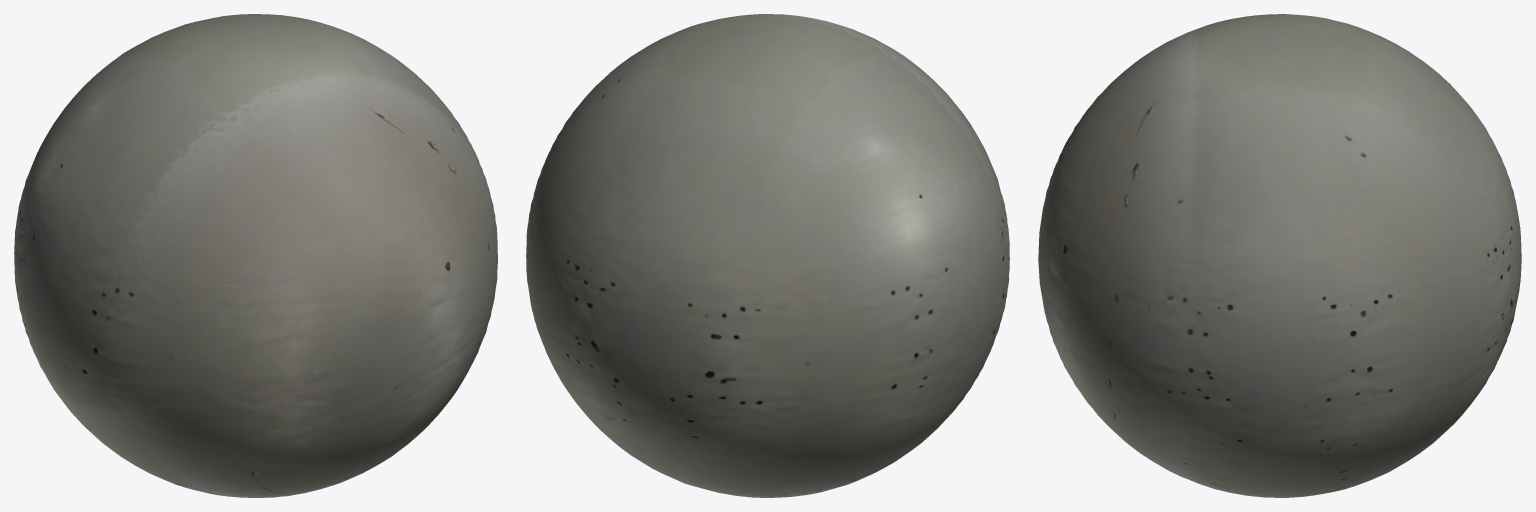
The model's file is cannonball_mediuam_quality.glb.
The picture shows the model from 3 angles, left to right: view 1: azimuth 30°, elevation 25°; view 2: azimuth 150°, elevation 25°; view 3: azimuth 270°, elevation 25°; orthographic projection.
Parts seen in each view (by area): view 1: Mesh1.0; view 2: Mesh1.0; view 3: Mesh1.0.
Boxes of the visible parts, x1,y1,x2,y2 form: Mesh1.0: (14,14,497,497); Mesh1.0: (526,14,1009,497); Mesh1.0: (1038,14,1521,497).
Bounding box in the file's own units: 1.91 × 1.91 × 1.91.
1 material, 1 textured.
